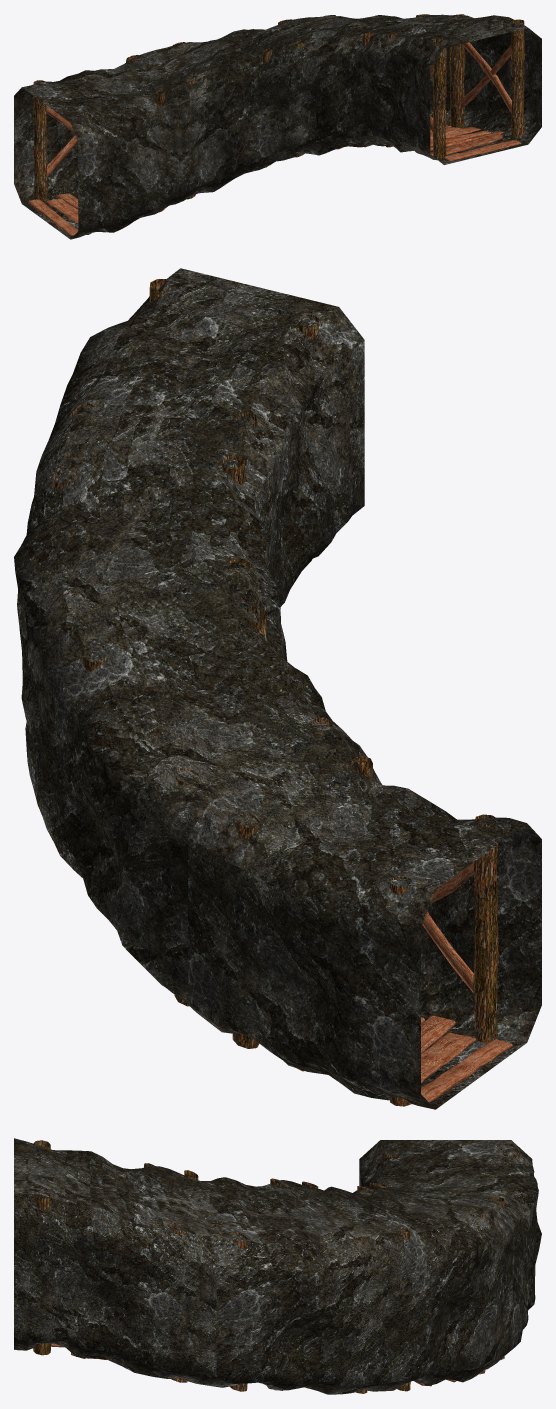
The model's file is Cave_035.fbx.
The picture shows the model from 3 angles, top to bottom: view 1: azimuth 30°, elevation 25°; view 2: azimuth 150°, elevation 25°; view 3: azimuth 270°, elevation 25°; orthographic projection. The views are drawn at different scales.
Visible parts, largest first — view 1: Cave.035; view 2: Cave.035; view 3: Cave.035.
Part boxes in pixels (x1,y1,x2,y2): Cave.035: (14, 14, 541, 239); Cave.035: (14, 268, 541, 1109); Cave.035: (14, 1138, 541, 1394).
Bounding box in the file's own units: 913 × 608 × 917.
